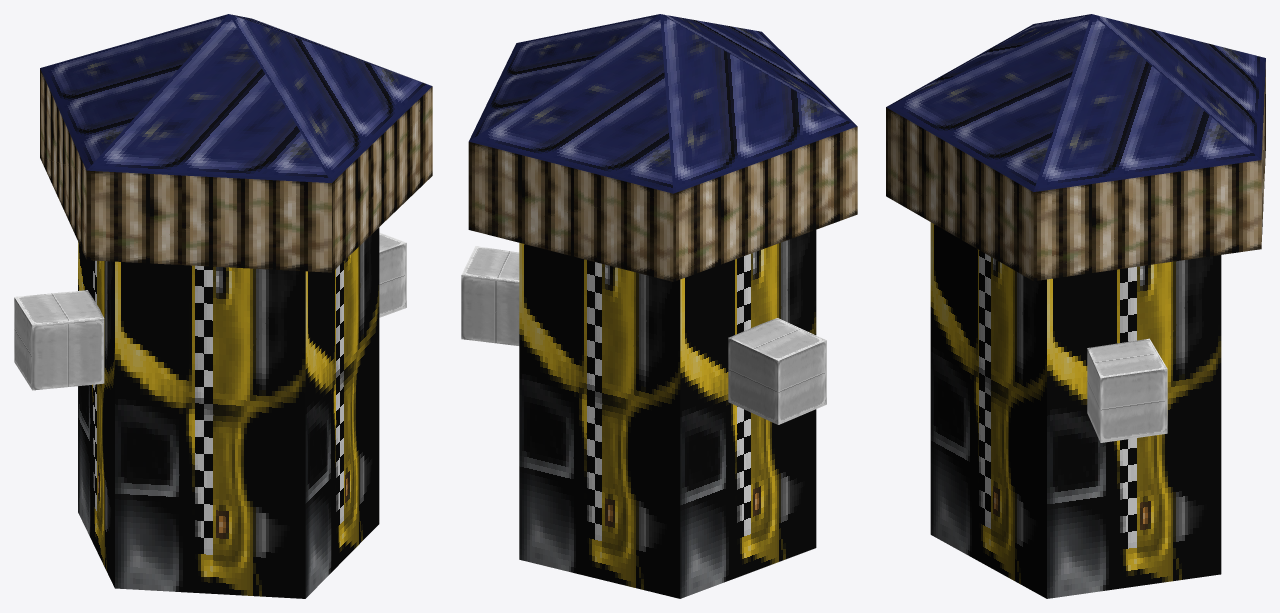
3 views of the same model, side by side, from view 1: azimuth 30°, elevation 25°; view 2: azimuth 150°, elevation 25°; view 3: azimuth 270°, elevation 25° (orthographic).
Visible parts, largest first — view 1: prim228-Box02; view 2: prim228-Box02; view 3: prim228-Box02.
Part boxes in pixels (x1,y1,x2,y2): prim228-Box02: (14,14,432,598); prim228-Box02: (461,14,857,598); prim228-Box02: (886,14,1265,598).
Size of the model in its own units: 94 by 129 by 85.
Materials: 5 (5 with a texture image).
